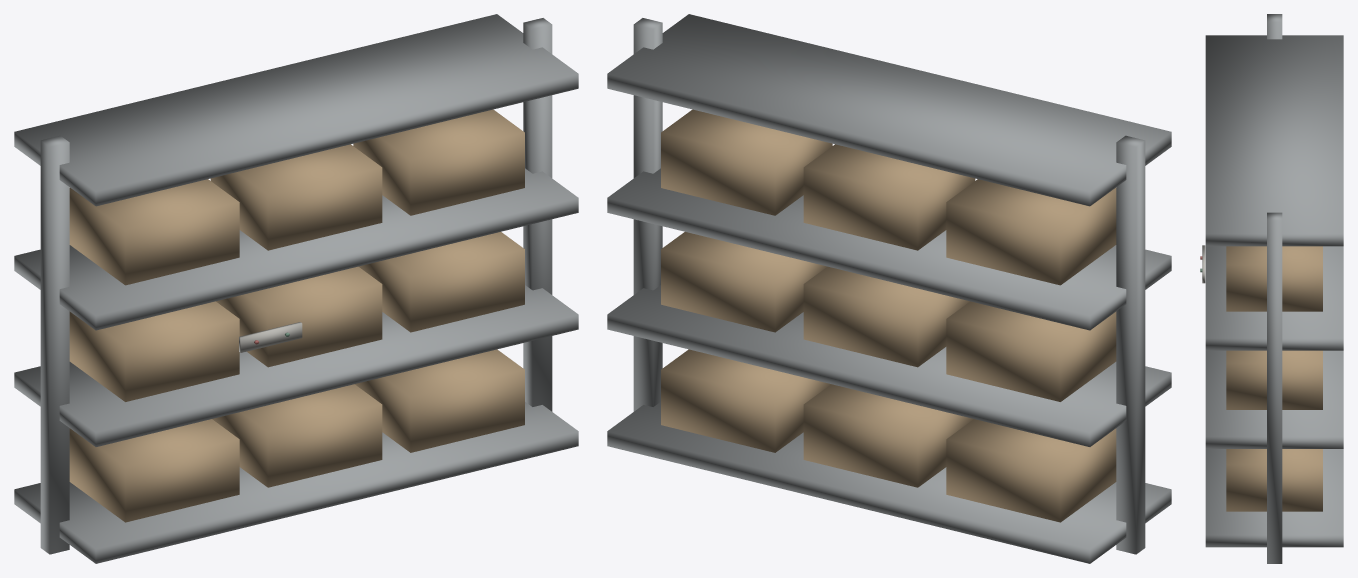
File: warehouse_pallet_rack__wide.glb
3 renders of one model, left to right at view 1: azimuth 30°, elevation 25°; view 2: azimuth 150°, elevation 25°; view 3: azimuth 270°, elevation 25°, orthographic. The views are drawn at different scales.
Visible parts, largest first — view 1: world; view 2: world; view 3: world.
Part boxes in pixels (<box>): world: <box>14,14,578,563</box>; world: <box>607,14,1171,563</box>; world: <box>1200,14,1343,563</box>.
Bounding box in the file's own units: 2.84 × 2.2 × 0.831.
